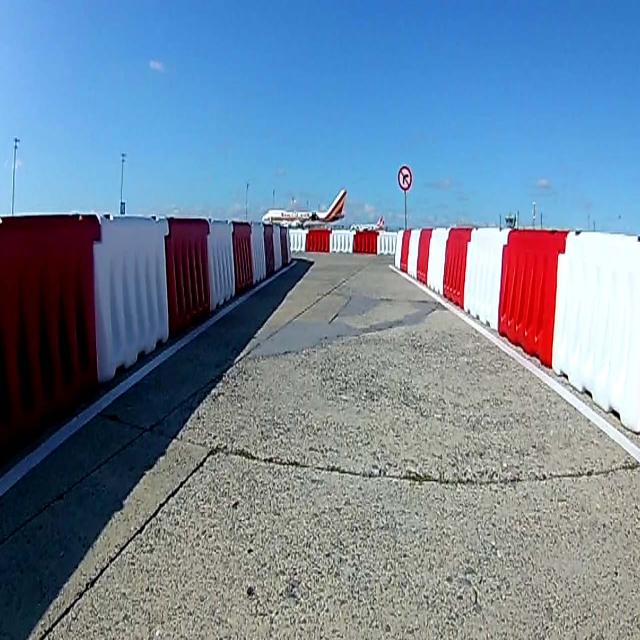sagadonulmez: (398, 164, 412, 192)
